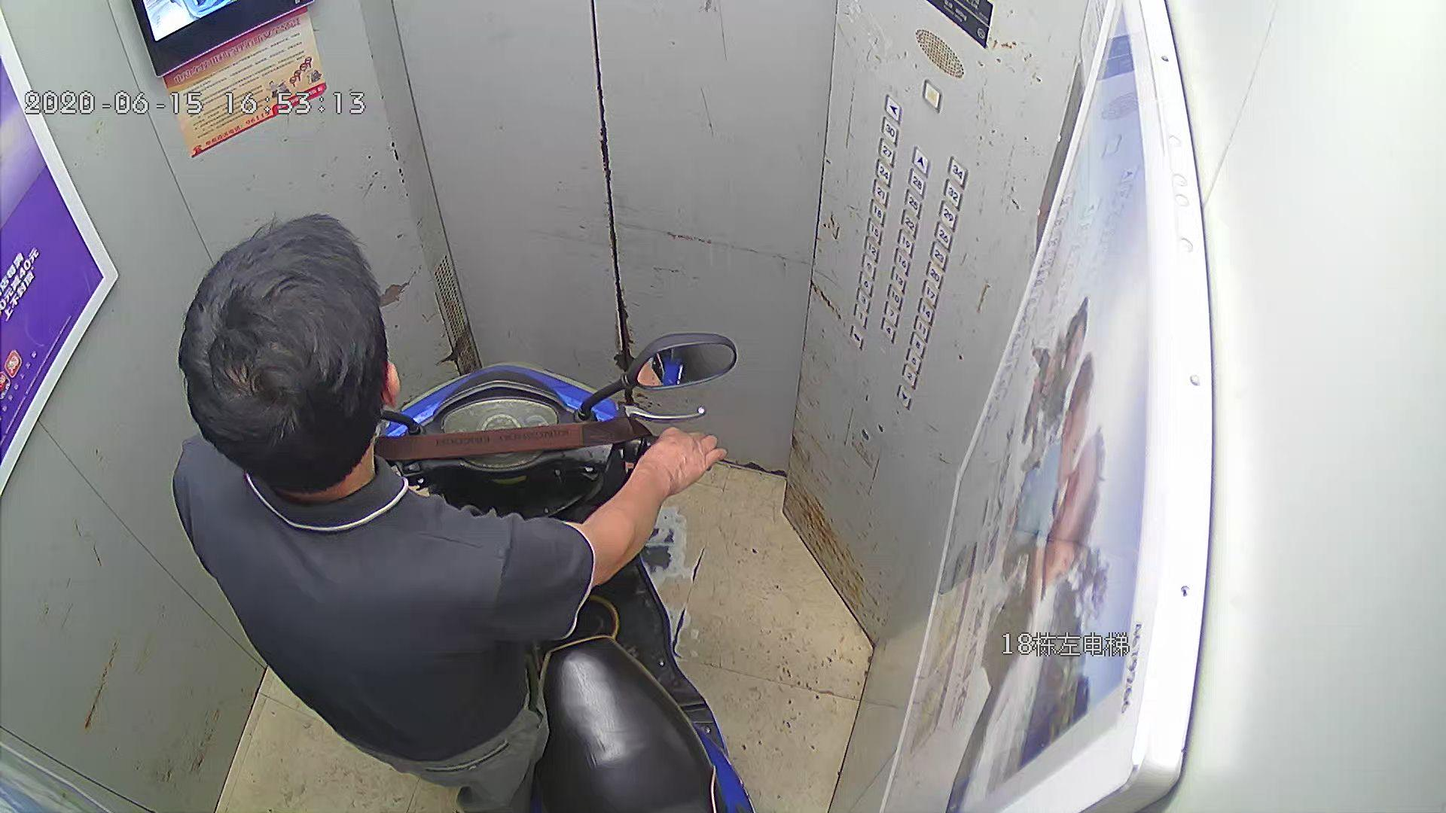Electric-bicycle: (368, 332, 742, 809)
